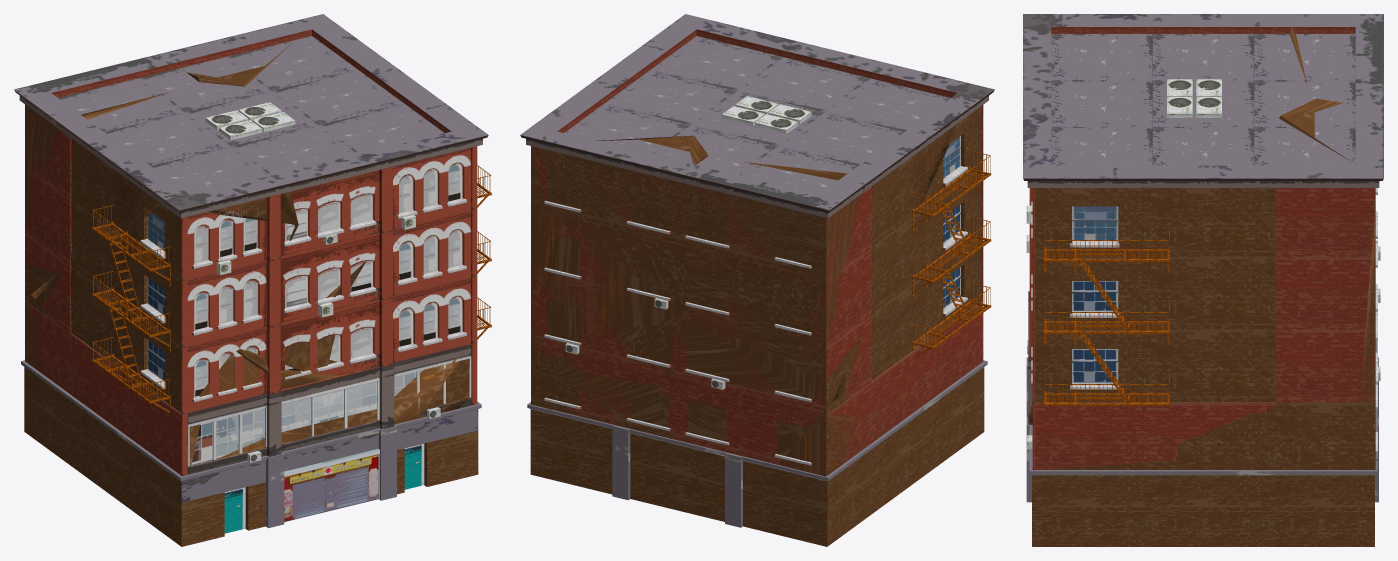
The model's file is A05_Destr.FBX.
3 renders of one model, left to right at view 1: azimuth 30°, elevation 25°; view 2: azimuth 150°, elevation 25°; view 3: azimuth 270°, elevation 25°, orthographic. The views are drawn at different scales.
Visible parts, largest first — view 1: K_Building_A05_00_Part_11, K_Building_A05_00_Part_8, K_Building_A05_00_Part_10, K_Building_A05_00_Part_15, K_Building_A05_00_Part_4, K_Building_A05_00_Part_2, K_Building_A05_00_Part_17, K_Building_A05_00_Part_19, K_Building_A05_00_Part_1, K_Building_A05_00_Part_12, K_Building_A05_00_Part_3, K_Building_A05_00_Part_14 (+3 smaller); view 2: K_Building_A05_00_Part_14, K_Building_A05_00_Part_17, K_Building_A05_00_Part_12, K_Building_A05_00_Part_11, K_Building_A05_00_Part_10, K_Building_A05_00_Part_18, K_Building_A05_00_Part_2, K_Building_A05_00_Part_1, K_Building_A05_00_Part_8, K_Building_A05_00_Part_7, K_Building_A05_00_Part_3, K_Building_A05_00_Part_20 (+1 smaller); view 3: K_Building_A05_00_Part_10, K_Building_A05_00_Part_18, K_Building_A05_00_Part_14, K_Building_A05_00_Part_16, K_Building_A05_00_Part_2, K_Building_A05_00_Part_15, K_Building_A05_00_Part_11, K_Building_A05_00_Part_17, K_Building_A05_00_Part_1, K_Building_A05_00_Part_4.
Boxes of the visible parts, x1,y1,x2,y2 form: K_Building_A05_00_Part_11: (95,140,298,371); K_Building_A05_00_Part_8: (110,351,322,546); K_Building_A05_00_Part_10: (245,14,491,262); K_Building_A05_00_Part_15: (316,259,491,512); K_Building_A05_00_Part_4: (262,220,476,428); K_Building_A05_00_Part_2: (158,82,389,224); K_Building_A05_00_Part_17: (14,52,198,274); K_Building_A05_00_Part_19: (240,186,411,371); K_Building_A05_00_Part_1: (50,114,171,327); K_Building_A05_00_Part_12: (21,290,113,480); K_Building_A05_00_Part_3: (43,268,141,417); K_Building_A05_00_Part_14: (169,18,307,86); K_Building_A05_00_Part_14: (531,135,708,384); K_Building_A05_00_Part_17: (675,153,872,378); K_Building_A05_00_Part_12: (657,372,917,546); K_Building_A05_00_Part_11: (841,61,994,319); K_Building_A05_00_Part_10: (520,14,784,249); K_Building_A05_00_Part_18: (527,363,682,508); K_Building_A05_00_Part_2: (695,38,878,156); K_Building_A05_00_Part_1: (805,137,943,314); K_Building_A05_00_Part_8: (915,249,991,475); K_Building_A05_00_Part_7: (676,316,862,404); K_Building_A05_00_Part_3: (844,300,959,402); K_Building_A05_00_Part_20: (894,424,923,497); K_Building_A05_00_Part_10: (1023,118,1383,415); K_Building_A05_00_Part_18: (1177,385,1378,546); K_Building_A05_00_Part_14: (1216,96,1383,424); K_Building_A05_00_Part_16: (1026,452,1197,546); K_Building_A05_00_Part_2: (1023,60,1310,131); K_Building_A05_00_Part_15: (1026,312,1186,486); K_Building_A05_00_Part_11: (1023,14,1197,79); K_Building_A05_00_Part_17: (1254,14,1383,216); K_Building_A05_00_Part_1: (1190,14,1304,65); K_Building_A05_00_Part_4: (1026,218,1032,341).
Size of the model in its own units: 1748 by 1697 by 1492.
